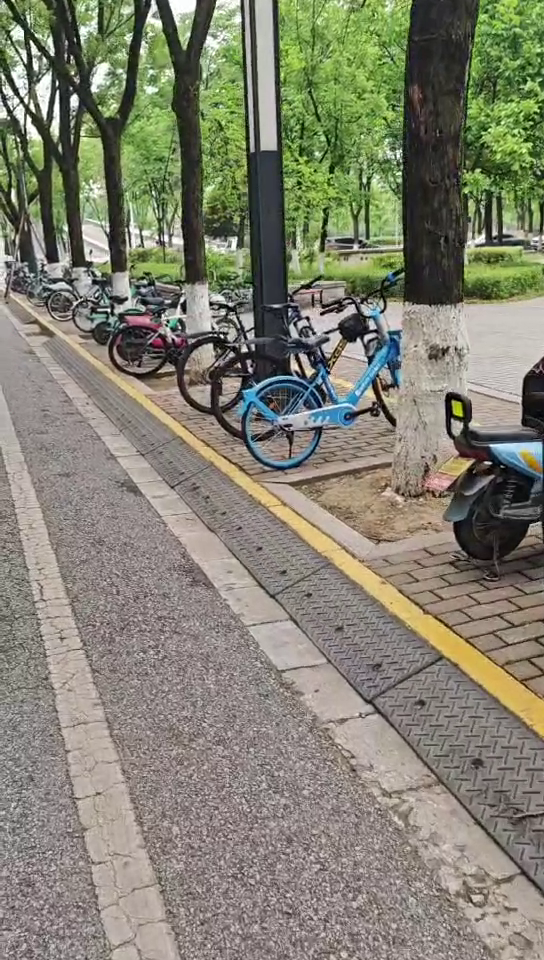others: (176, 273, 334, 407), (108, 283, 231, 378)
shared_bike_haluo: (237, 286, 426, 462)
